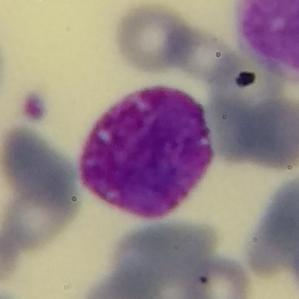Basophil: (70, 73, 225, 230)
Monocyte: (228, 0, 299, 84)
Platelets: (18, 90, 50, 124), (234, 69, 258, 89)
RBC: (107, 217, 217, 298), (0, 122, 85, 220), (0, 168, 84, 260), (111, 0, 198, 77), (163, 19, 240, 84), (202, 88, 267, 164), (241, 92, 299, 170), (249, 191, 298, 278), (177, 251, 254, 299), (79, 266, 164, 299), (268, 171, 299, 258), (0, 228, 24, 286), (0, 24, 9, 118)
